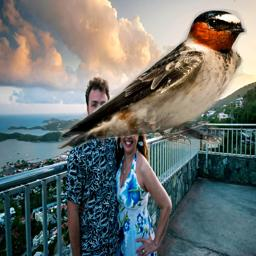Swallow: (57, 7, 247, 149)
